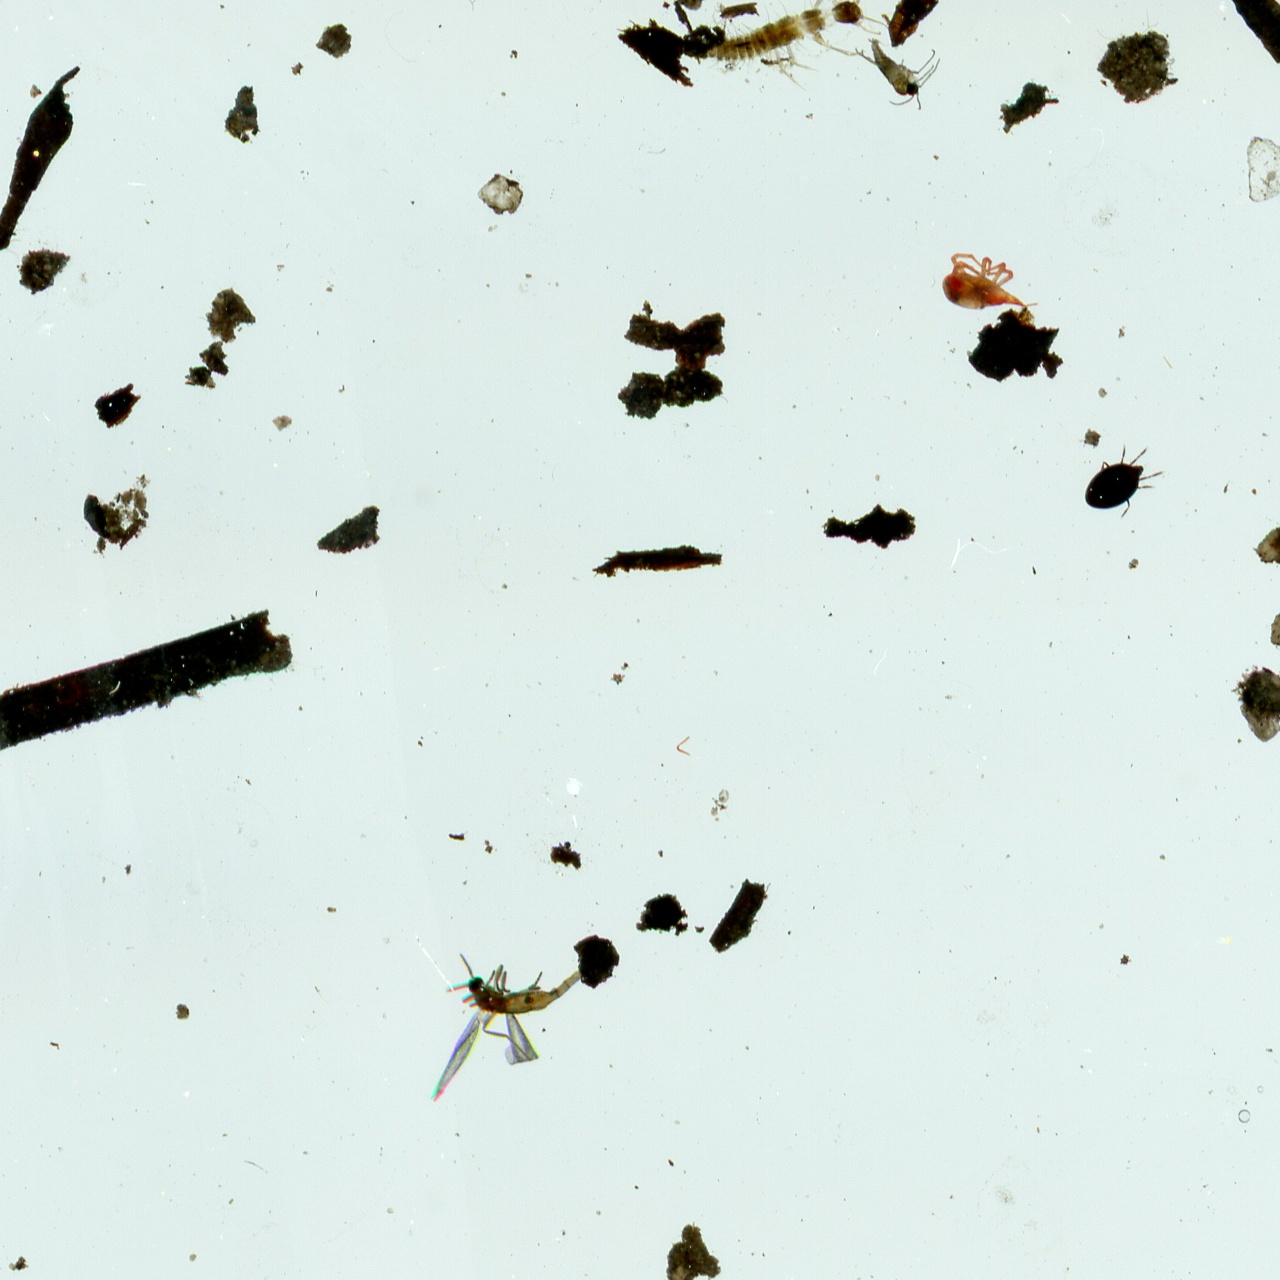arthropod: (420, 945, 580, 1102), (654, 0, 881, 63), (940, 238, 1036, 311), (860, 32, 951, 101), (1084, 443, 1162, 517)
